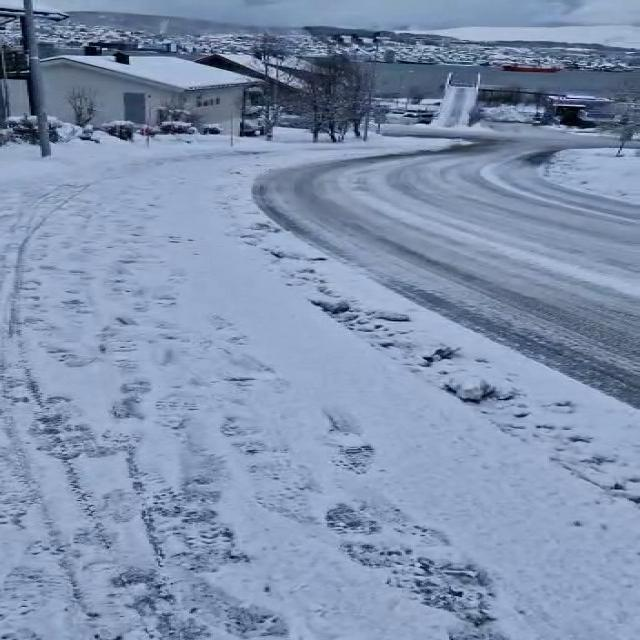path: (253, 125, 640, 404)
